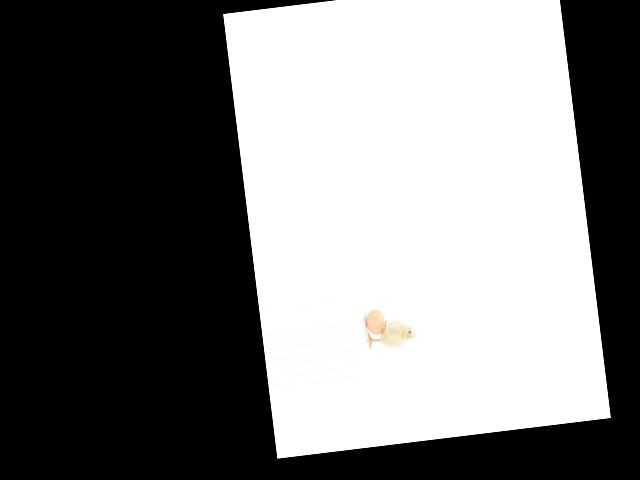egg: (364, 308, 387, 336)
